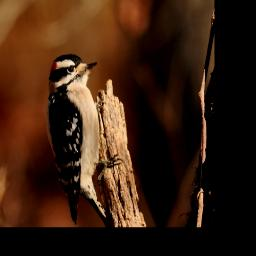Woodpecker: (46, 49, 124, 224)
